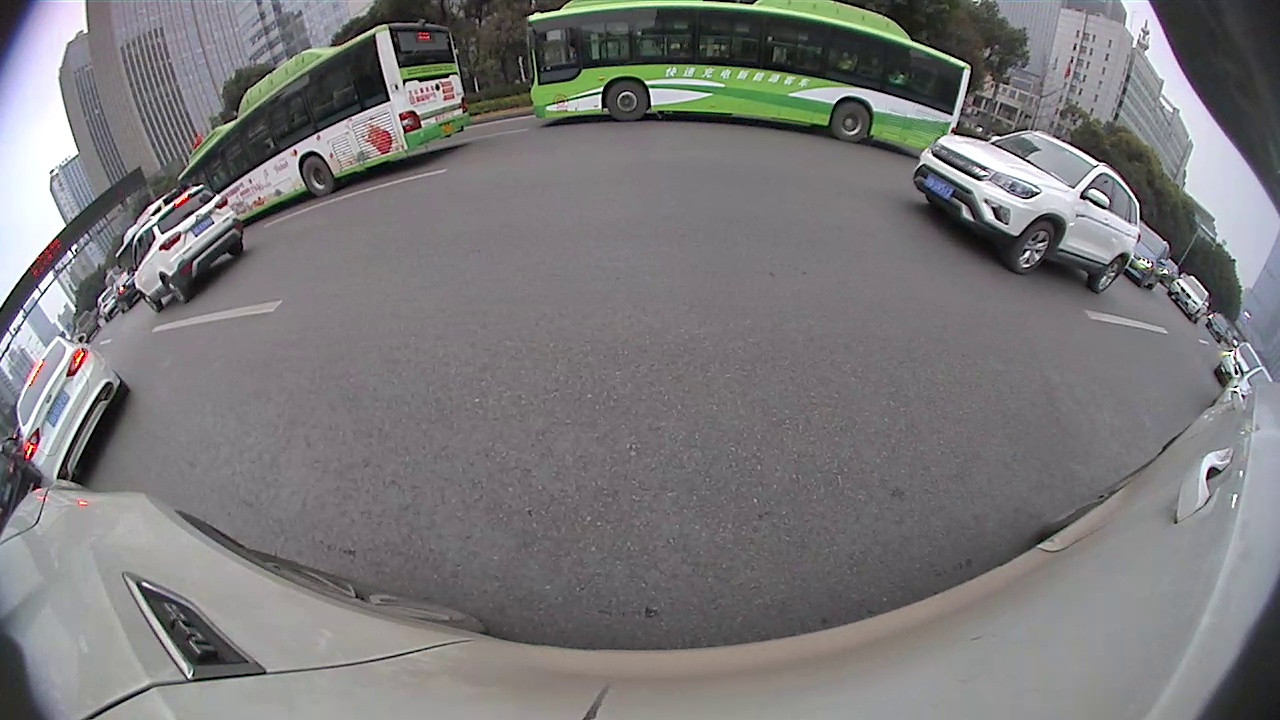bus: (518, 4, 976, 163), (174, 18, 476, 222)
car: (910, 127, 1143, 296), (5, 333, 133, 487), (125, 183, 249, 315)
front: (1010, 219, 1058, 278), (605, 78, 650, 122)
rear: (831, 99, 873, 143), (298, 154, 336, 198), (1093, 255, 1123, 293)
